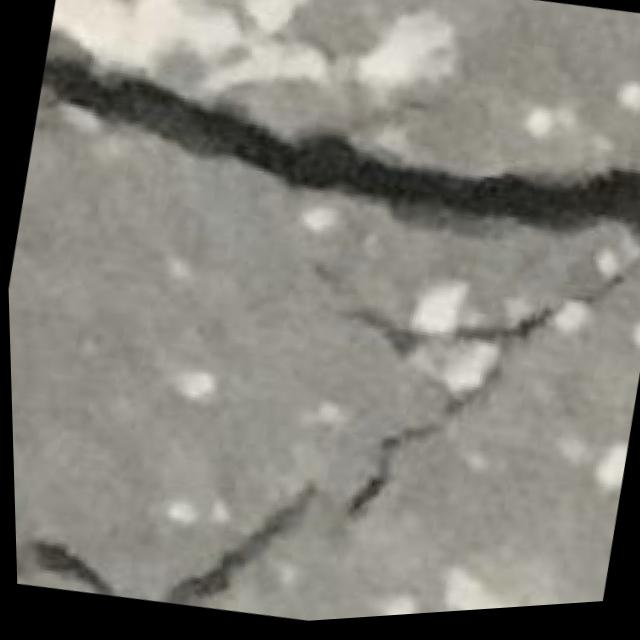Crack: (144, 200, 640, 633), (22, 2, 640, 298), (12, 500, 129, 603)
